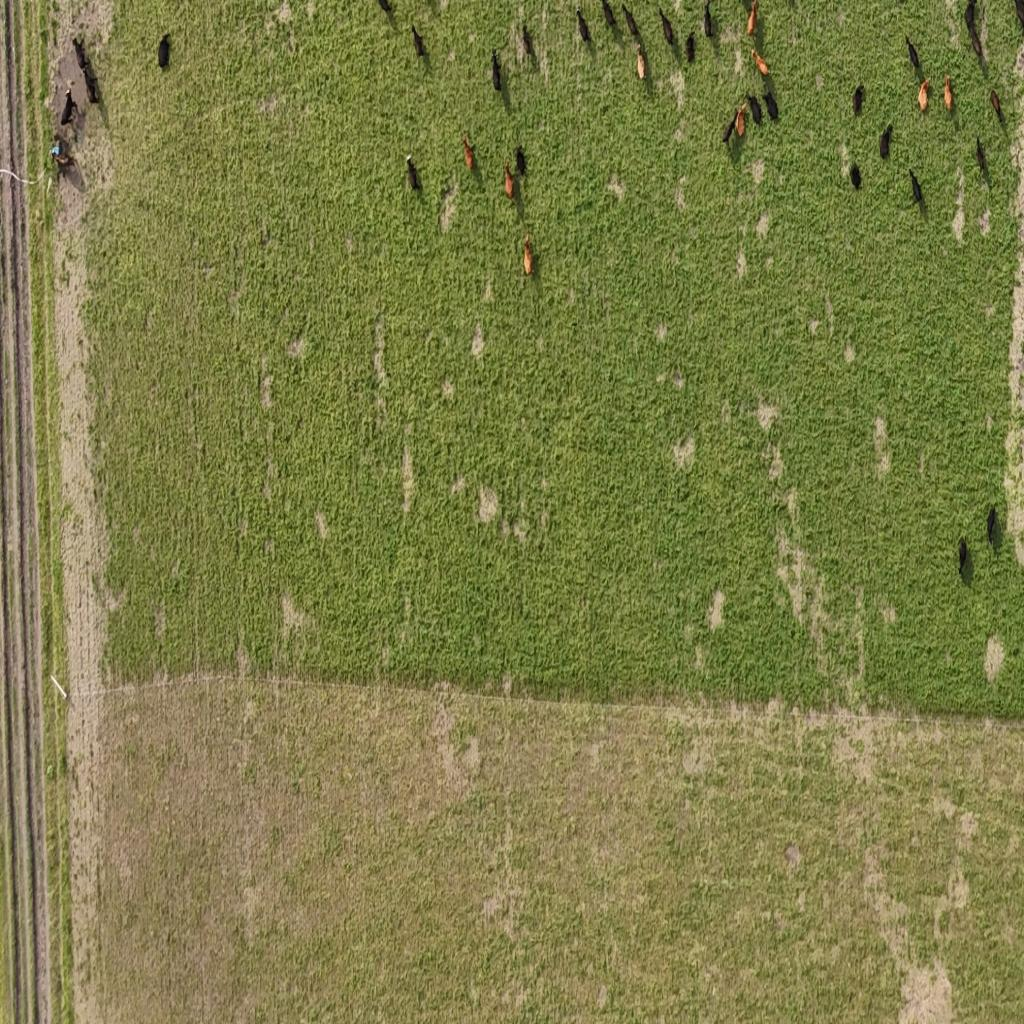cow: (516, 20, 539, 62), (81, 64, 101, 104), (60, 84, 78, 126), (404, 154, 422, 194), (156, 31, 173, 72), (411, 21, 428, 62), (986, 504, 1000, 552), (622, 4, 640, 40), (976, 134, 990, 180), (72, 35, 90, 70), (910, 167, 925, 207), (750, 47, 769, 77), (722, 112, 738, 146), (660, 7, 674, 45), (49, 151, 74, 172), (576, 7, 590, 43), (907, 35, 921, 71), (879, 122, 892, 160), (600, 0, 616, 30), (748, 92, 762, 126), (970, 28, 984, 62), (918, 76, 931, 112), (764, 89, 778, 122), (462, 134, 475, 168), (958, 537, 969, 577), (491, 49, 501, 91), (989, 88, 1002, 120), (964, 0, 977, 32), (523, 234, 533, 274), (735, 102, 746, 138), (747, 0, 758, 36), (504, 162, 515, 198), (704, 2, 715, 38), (515, 144, 526, 176), (853, 83, 864, 115), (849, 165, 863, 189), (944, 75, 953, 112), (636, 48, 646, 79), (685, 32, 695, 63), (376, 0, 392, 16), (1017, 0, 1024, 36)
